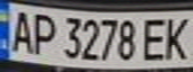2: (78, 15, 100, 62)
3: (57, 12, 84, 60)
7: (100, 16, 121, 62)
8: (115, 16, 142, 63)
A: (3, 7, 36, 54)
E: (139, 15, 172, 62)
K: (160, 14, 193, 62)
P: (27, 9, 60, 56)
